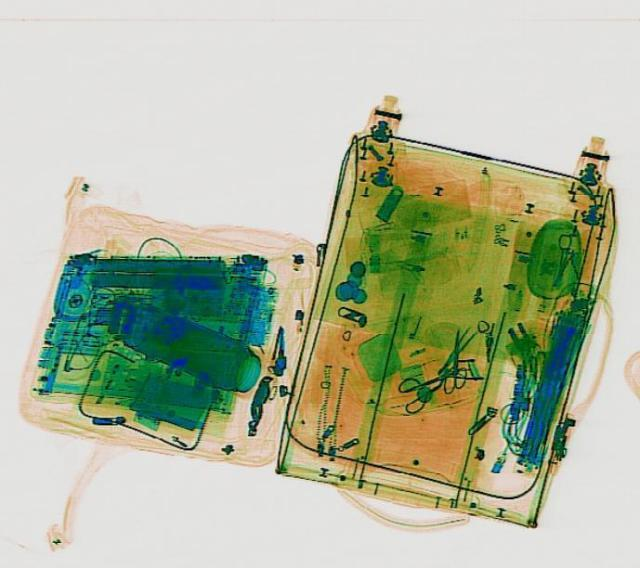Scissors: (389, 355, 471, 410), (436, 322, 469, 389)
